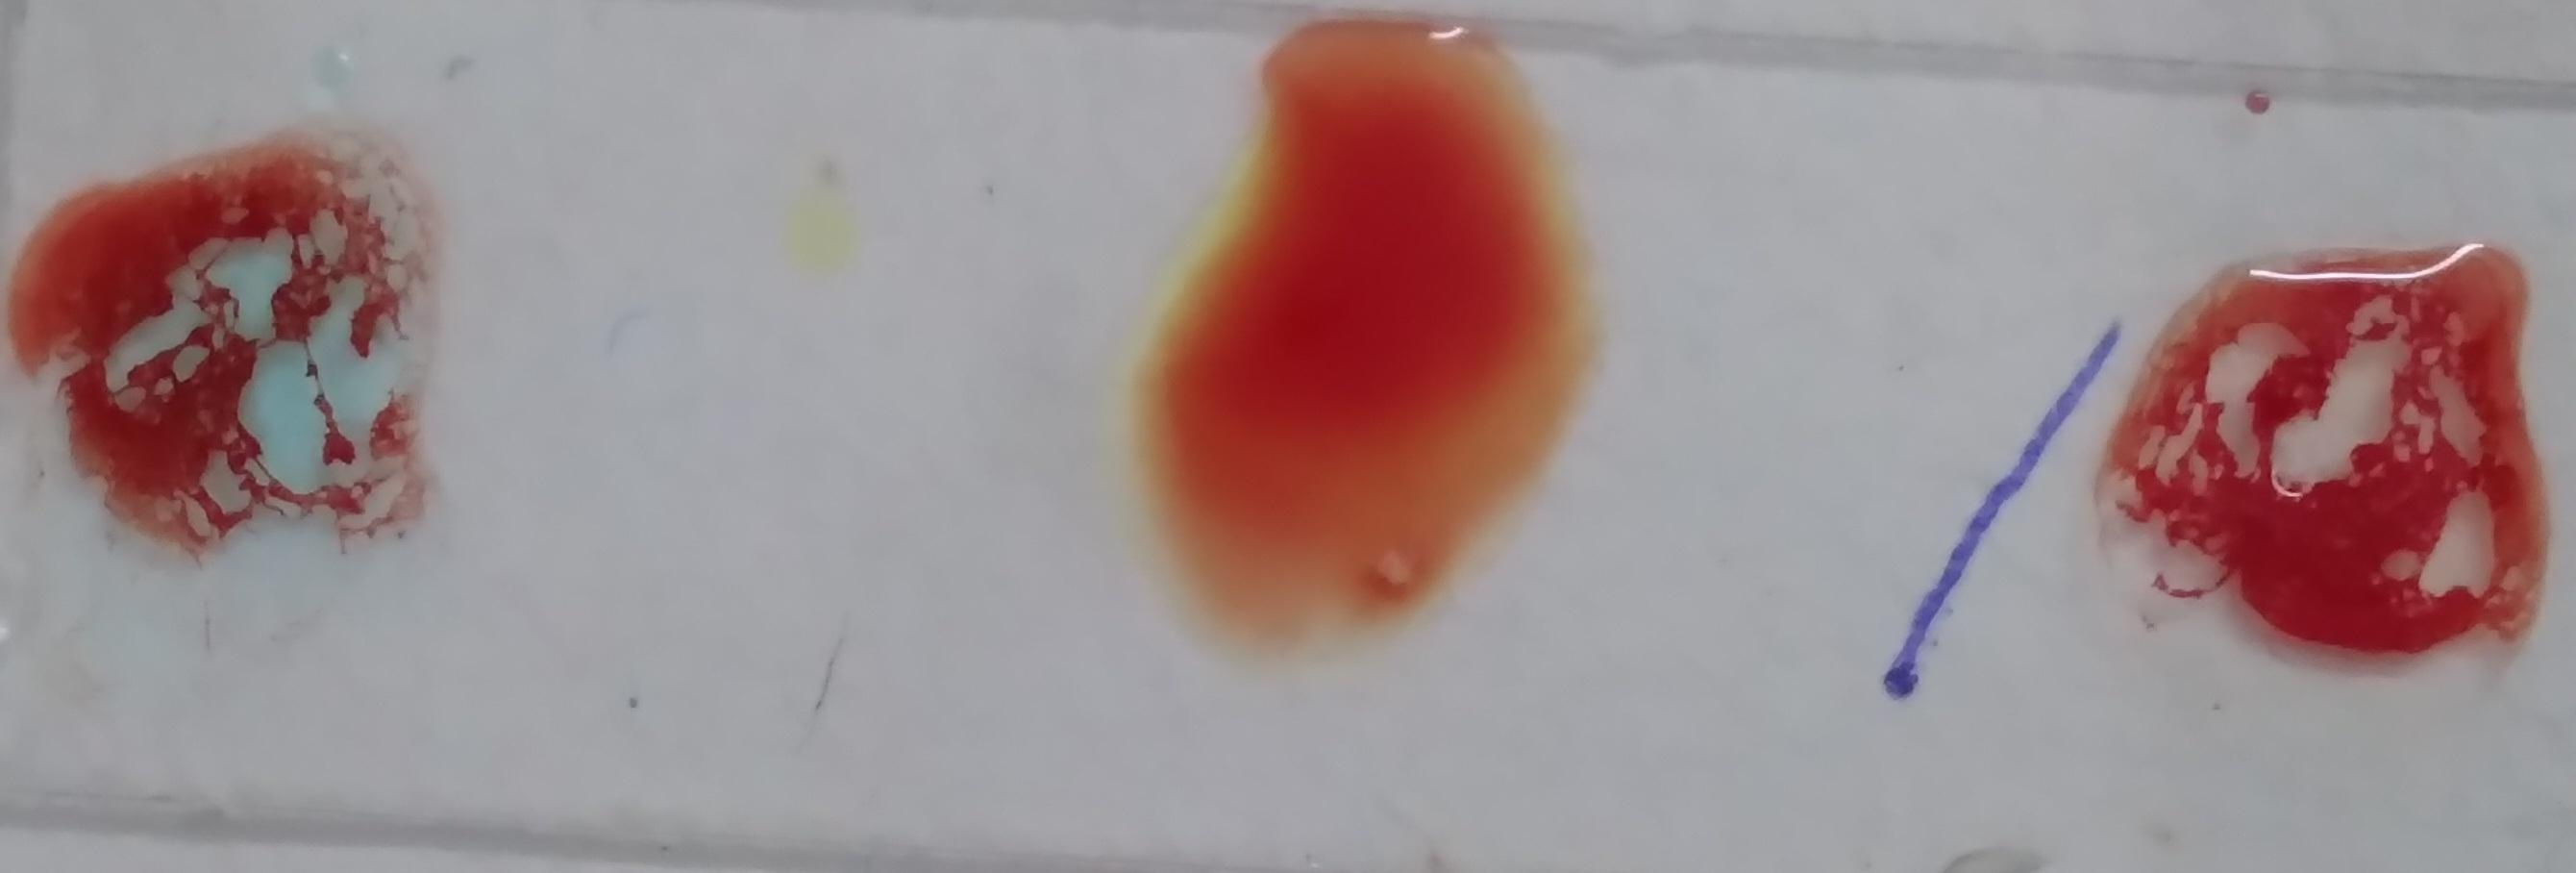A: (2119, 304, 2555, 727)
D: (34, 219, 445, 643)
